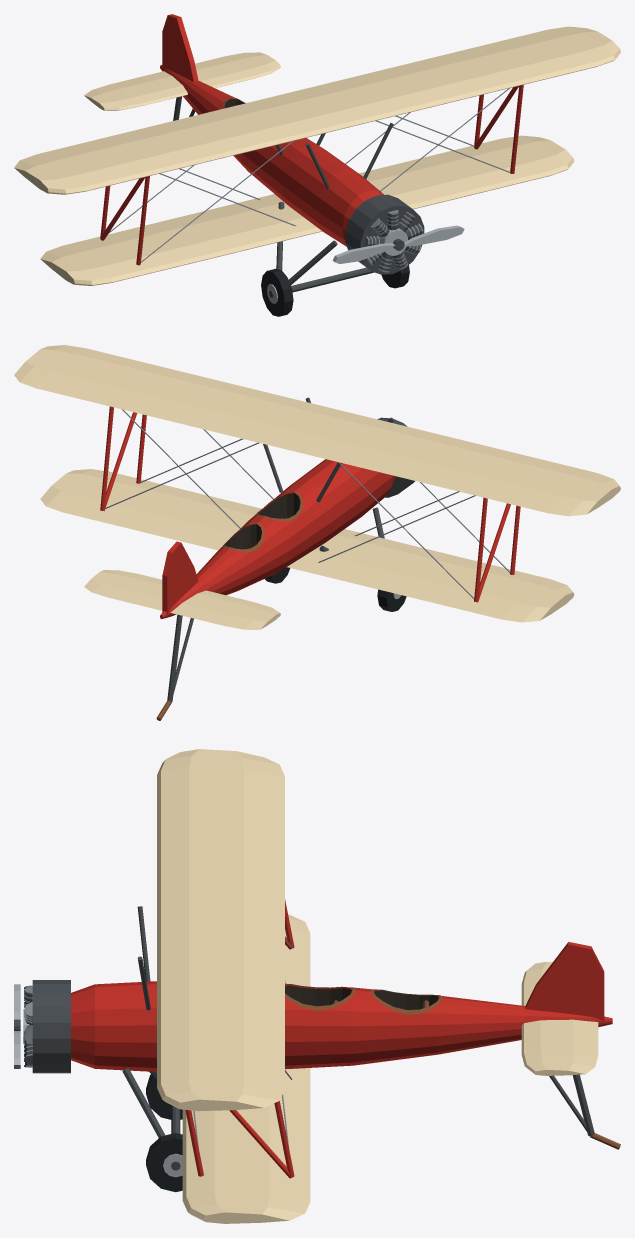
3 views of the same model, one above another, from view 1: azimuth 30°, elevation 25°; view 2: azimuth 150°, elevation 25°; view 3: azimuth 270°, elevation 25° (orthographic). The views are drawn at different scales.
Visible parts, largest first — view 1: Nu_D36, Pervane; view 2: Nu_D36; view 3: Nu_D36.
Boxes of the visible parts, x1,y1,x2,y2 form: Nu_D36: (14,14,620,316); Pervane: (332,225,464,263); Nu_D36: (14,345,620,720); Nu_D36: (23,749,620,1223).
Size of the model in its own units: 9.74 by 2.97 by 7.13.
